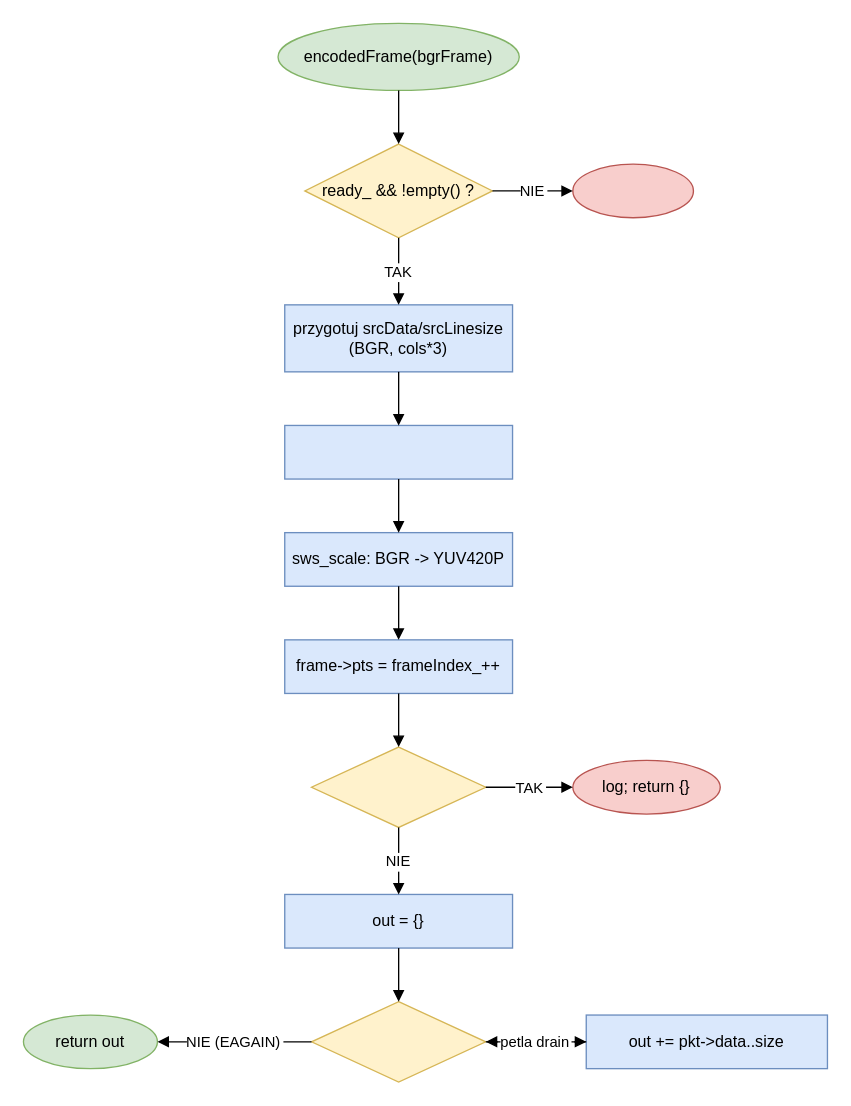
This 851x1106 diagram has some shape labels left out. Each missing label, with the centre of its shape:
"av_frame_make_writable" belongs at point (398, 451).
"receive_packet >= 0 ?" belongs at point (398, 1041).
"return {}" belongs at point (632, 190).
"send_frame < 0 ?" belongs at point (398, 786).
